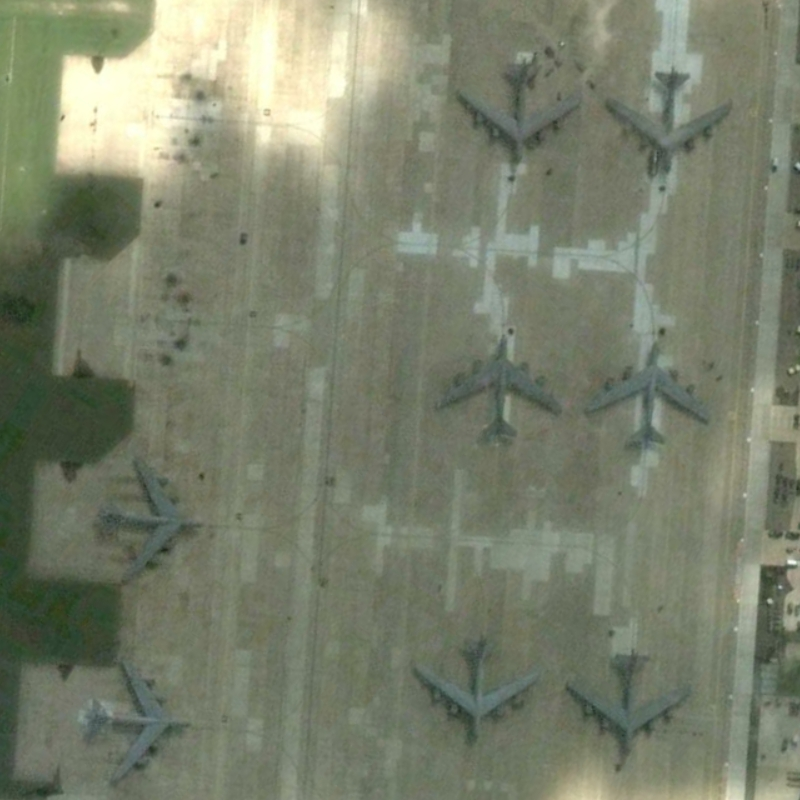A8: (578, 321, 715, 456), (425, 320, 570, 447), (445, 44, 587, 172), (88, 449, 212, 589), (73, 655, 199, 792), (600, 60, 741, 182), (557, 645, 697, 761), (406, 628, 538, 744)
